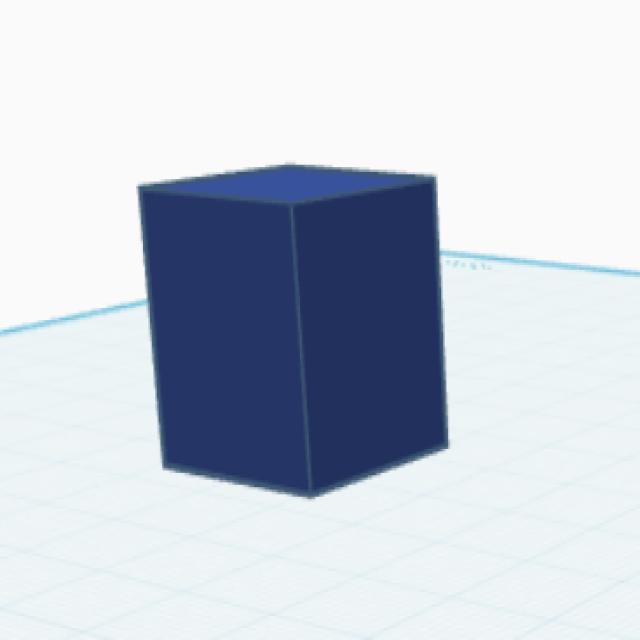cube: (135, 160, 451, 502)
